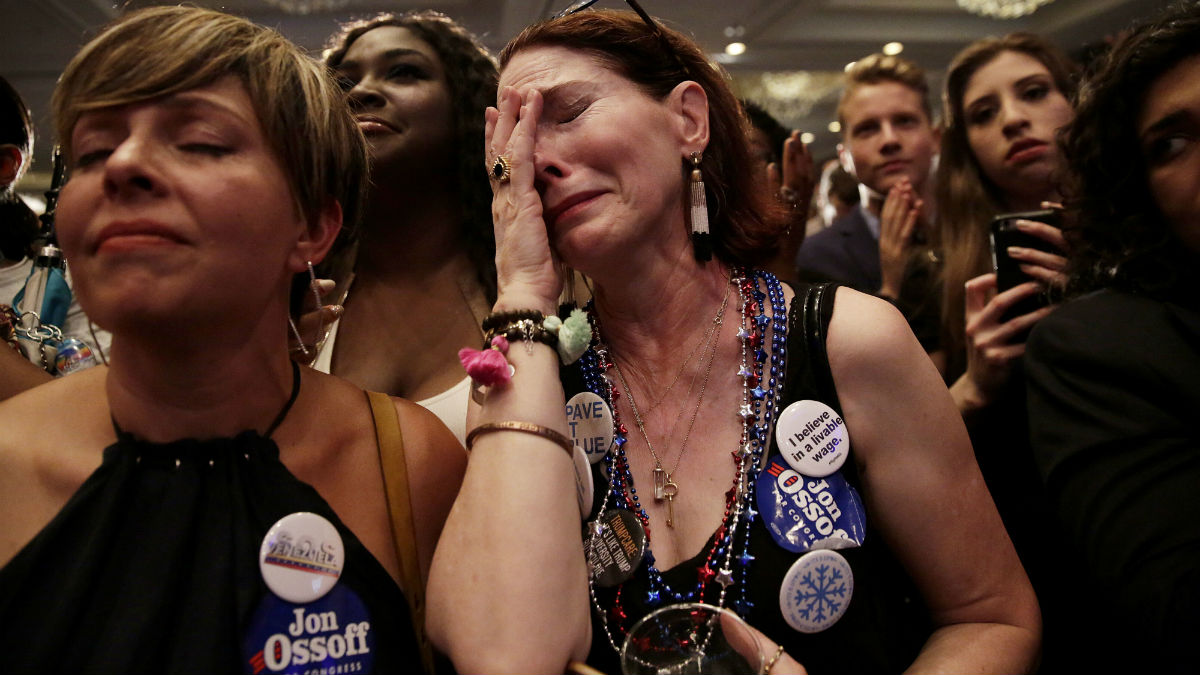sad: (54, 93, 266, 335), (504, 85, 661, 269)
